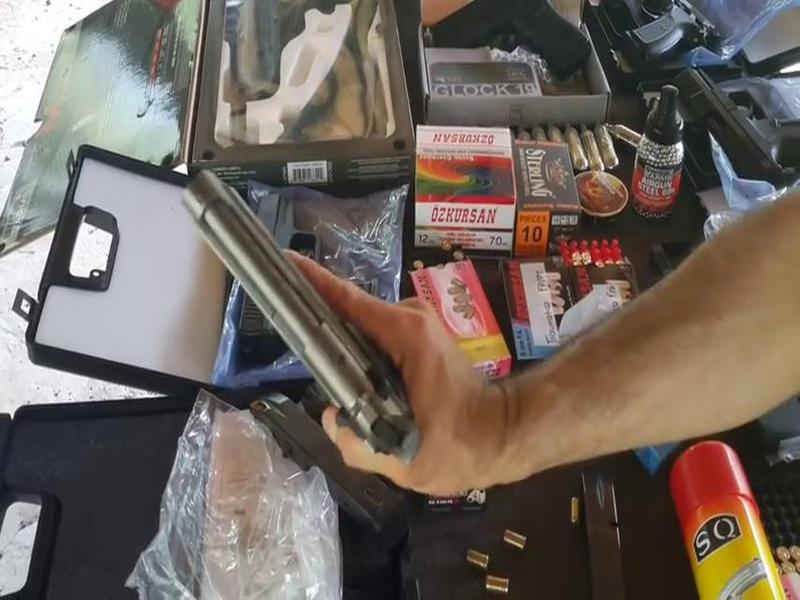Pistola: (157, 158, 447, 463)
